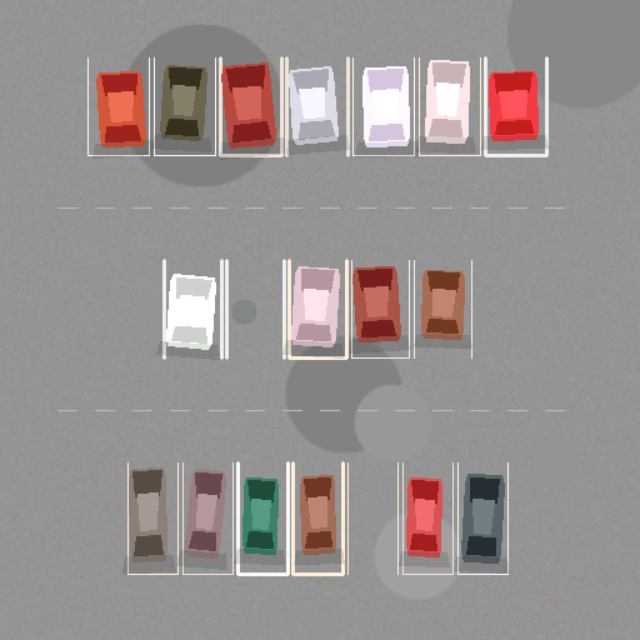space-empty: (226, 260, 284, 358), (347, 462, 397, 574)
space-occupied: (87, 58, 149, 155), (154, 58, 215, 155), (220, 58, 281, 155), (286, 58, 347, 155), (353, 58, 414, 155), (419, 58, 480, 155), (485, 58, 546, 155), (351, 260, 409, 358), (127, 462, 177, 574), (183, 462, 233, 574), (237, 462, 287, 574), (293, 462, 343, 574), (403, 462, 453, 574), (457, 462, 507, 574), (164, 260, 221, 358), (289, 260, 346, 358), (414, 260, 471, 358)
